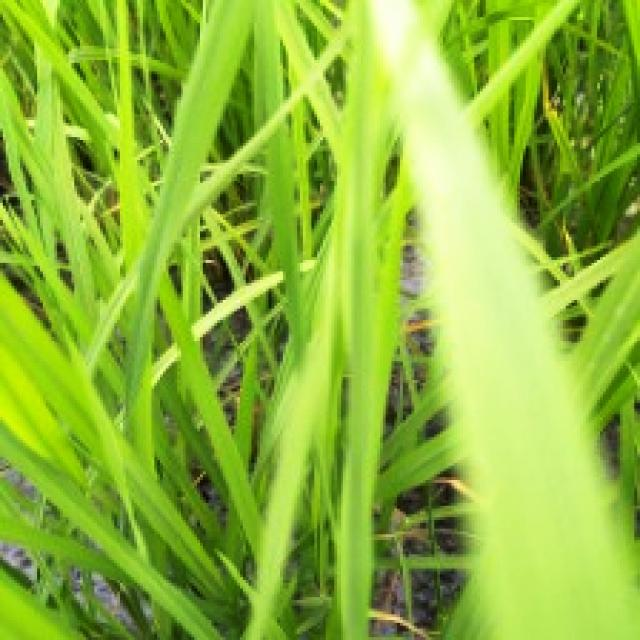health: (0, 0, 392, 389)
